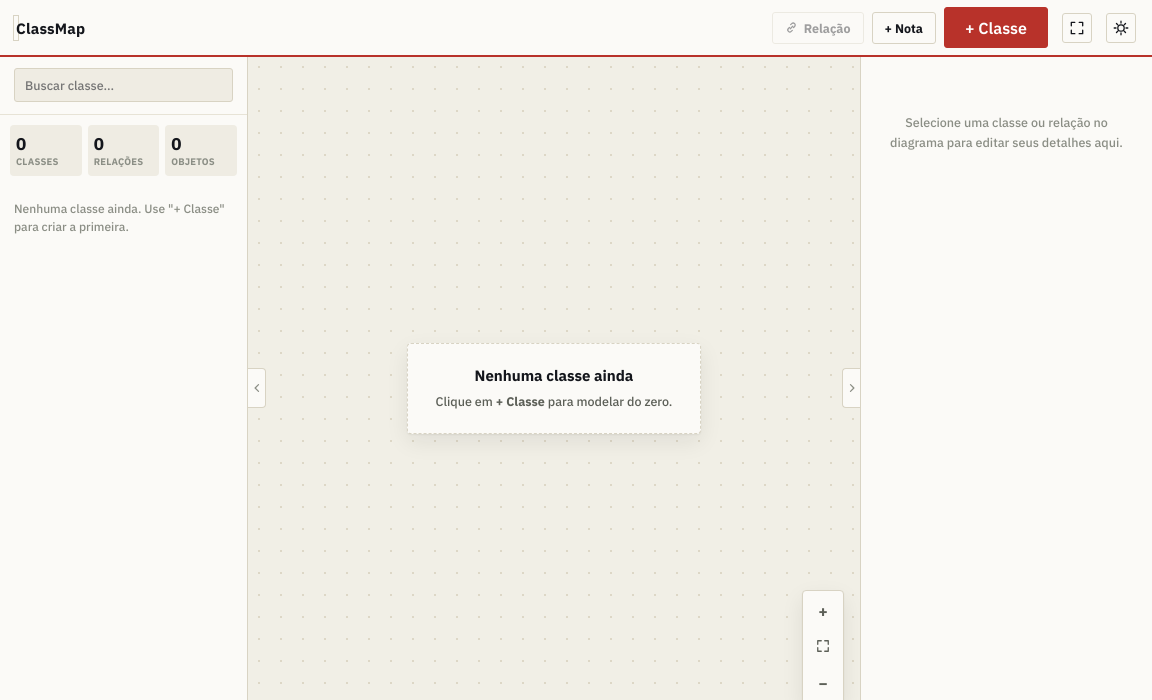
Test: ClassDiagramCanvas — editor › CA-04: inspector edita nome/estereótipo/atributos de uma classe (paridade com o painel antigo)
Click the button "+ Classe".
click(996, 28)  # box [944,7,1048,48]
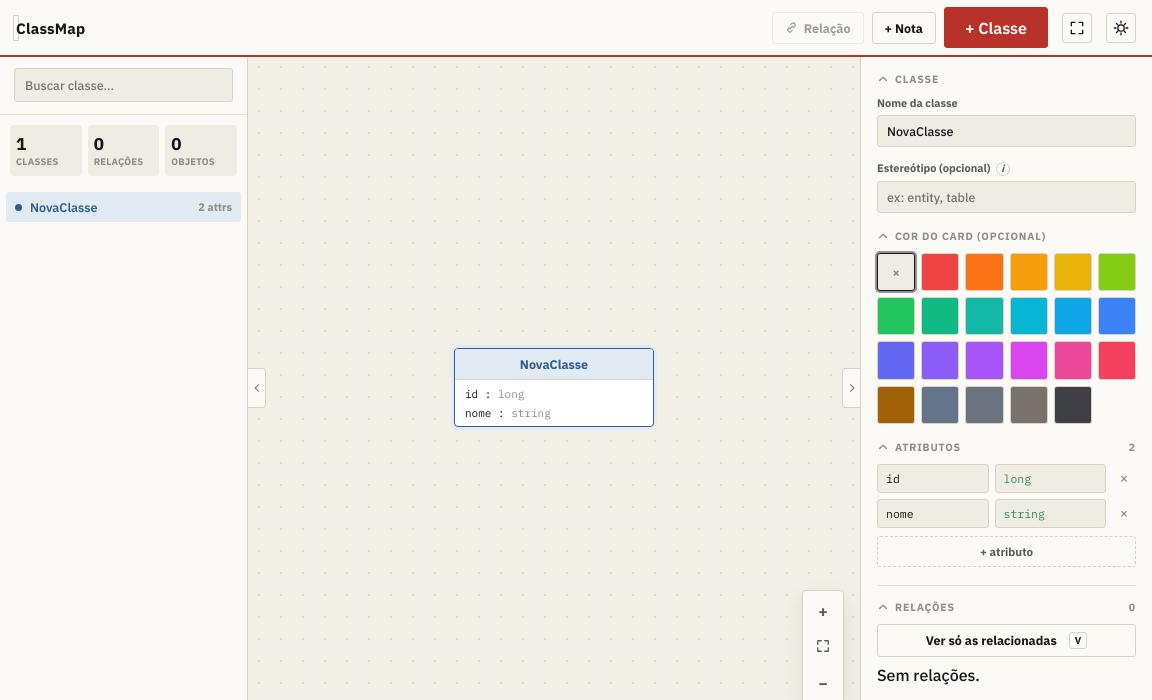
Press the mouse on the button with class "node-box" at (554, 388), box [454,348,654,427]
Replace the text in the field labelled "Nome da classe" with "Pedido" at (1006, 131), box [877,115,1136,147]
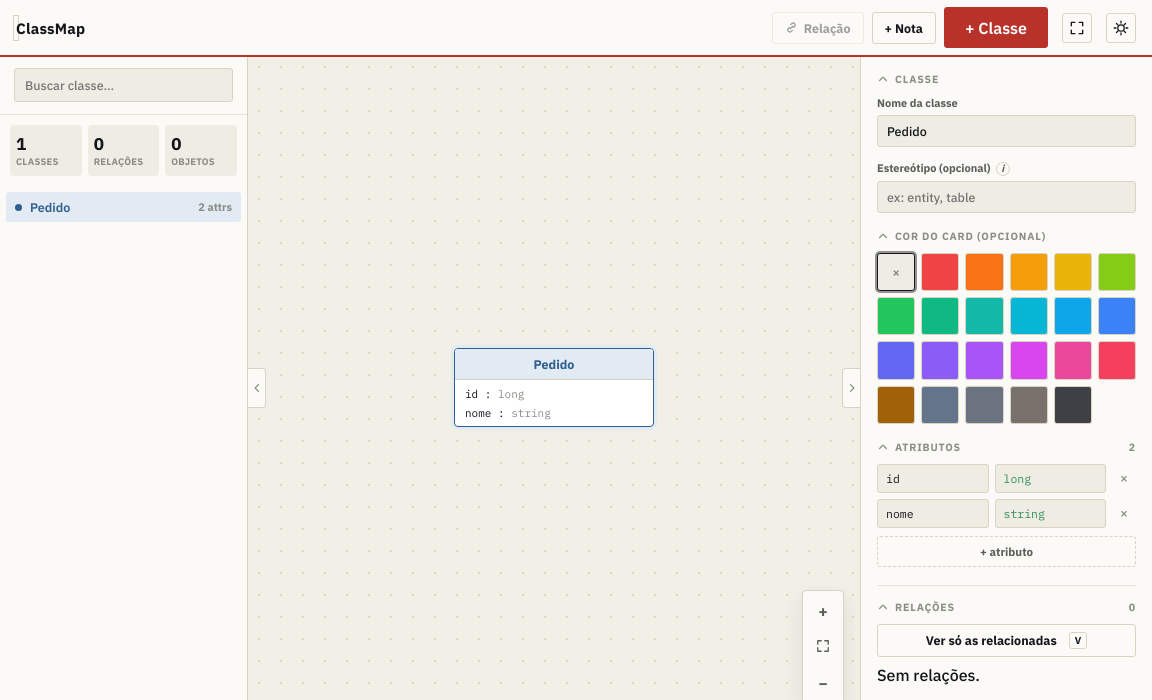
Type "entity" into the field with placeholder "ex: entity, table".
click(1006, 197); type("entity")  # box [877,181,1136,213]
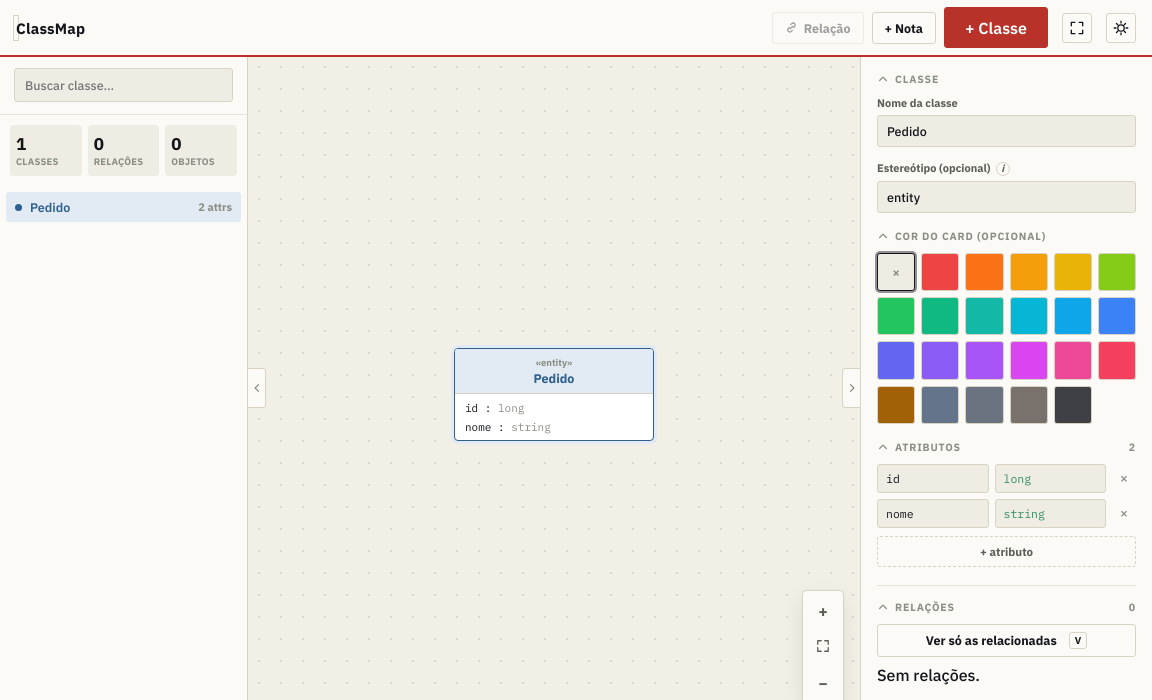
Click the button "+ atributo".
click(1006, 551)  # box [877,536,1136,567]
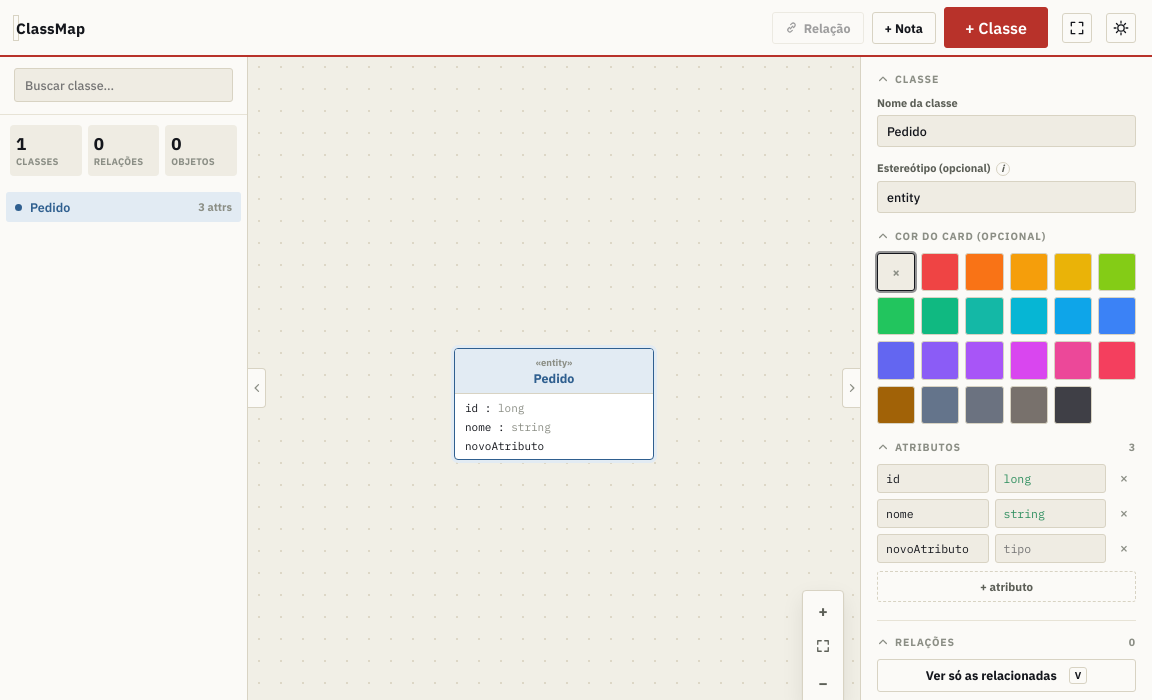
Expected: the text "Pedido" is shown, [534,370,574,386]
Expected: the number of fields with placeholder "nome" is 3, [877,464,988,493]; [877,499,988,528]; [877,534,988,563]
